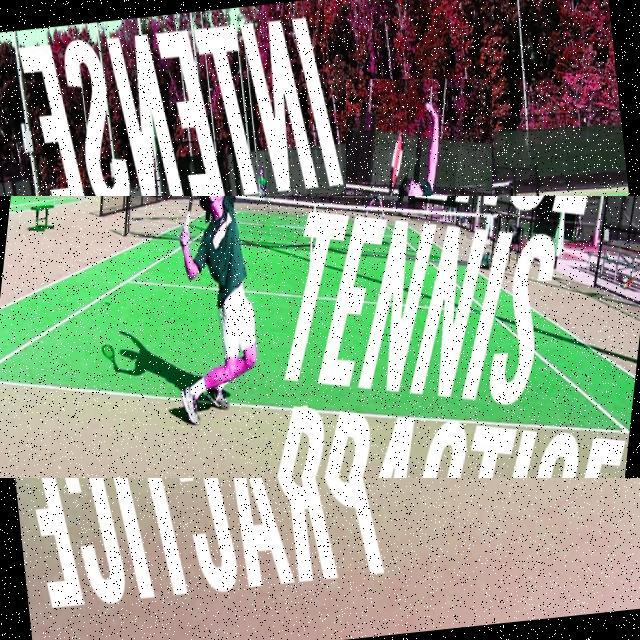court: (0, 196, 640, 478)
net: (138, 171, 520, 274)
player: (346, 79, 492, 450)
